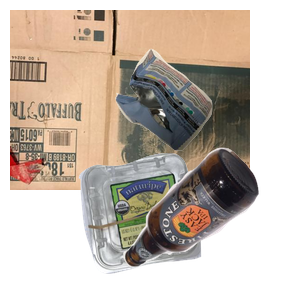cardboard: (10, 10, 250, 190)
glass: (120, 145, 300, 300)
plastic: (76, 151, 270, 300)
trash: (113, 46, 300, 189)
